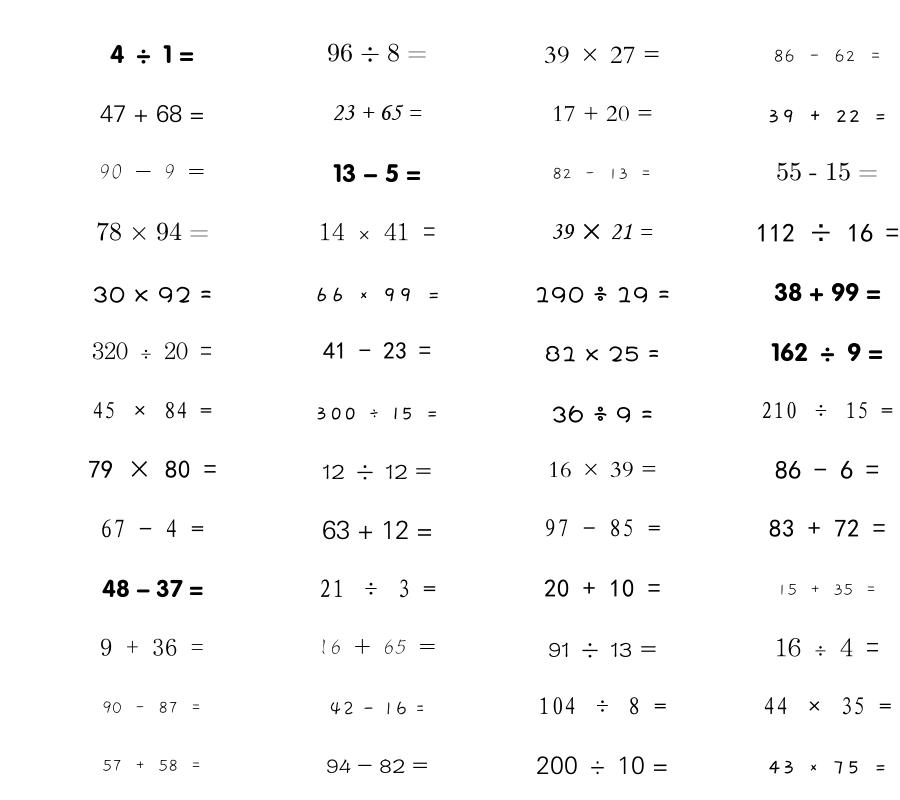MQ: (756, 223, 899, 242), (536, 756, 668, 775), (88, 460, 217, 479), (761, 401, 893, 419), (538, 697, 667, 715), (763, 697, 892, 715), (534, 286, 670, 303), (771, 342, 883, 362), (319, 579, 436, 598), (544, 579, 661, 598), (322, 520, 433, 540), (92, 342, 212, 360), (92, 401, 212, 419), (96, 222, 209, 241), (774, 282, 881, 302), (319, 223, 436, 241), (544, 519, 661, 537), (769, 519, 886, 537), (544, 46, 660, 64), (92, 286, 212, 303), (100, 104, 205, 123), (775, 460, 879, 479), (100, 519, 204, 538), (775, 638, 879, 657), (545, 345, 660, 362), (776, 162, 878, 181), (102, 579, 203, 598), (314, 287, 441, 302), (327, 43, 427, 62), (318, 639, 436, 655), (100, 638, 204, 656), (548, 461, 657, 478), (323, 342, 431, 359), (551, 405, 653, 423), (333, 163, 421, 183), (322, 464, 432, 480), (548, 642, 657, 658), (551, 223, 653, 240), (552, 105, 653, 122), (110, 44, 194, 64), (767, 109, 887, 123), (767, 760, 887, 774), (315, 407, 439, 420), (99, 164, 205, 179), (332, 104, 422, 121), (326, 759, 428, 774), (773, 49, 882, 63), (329, 701, 425, 716), (552, 167, 652, 180), (777, 583, 877, 596), (102, 701, 202, 714), (102, 759, 202, 772)
